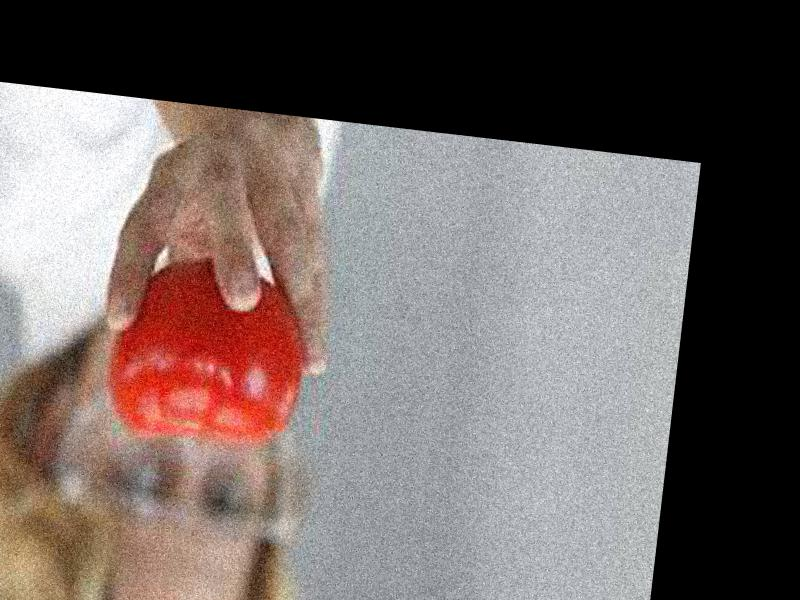Tomato: (97, 253, 311, 449)
